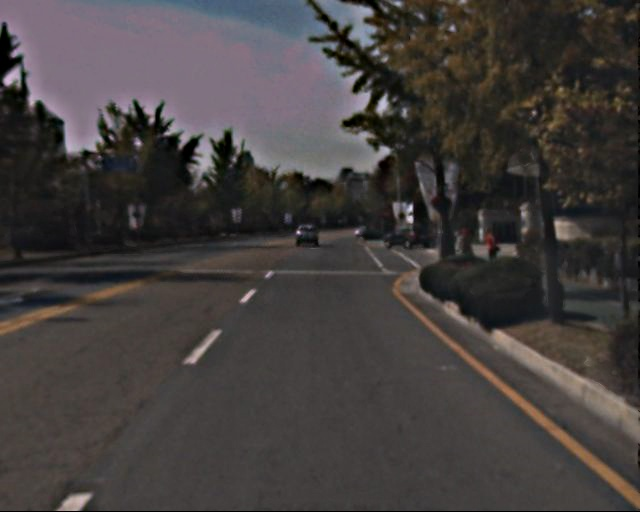person: (480, 226, 500, 275)
